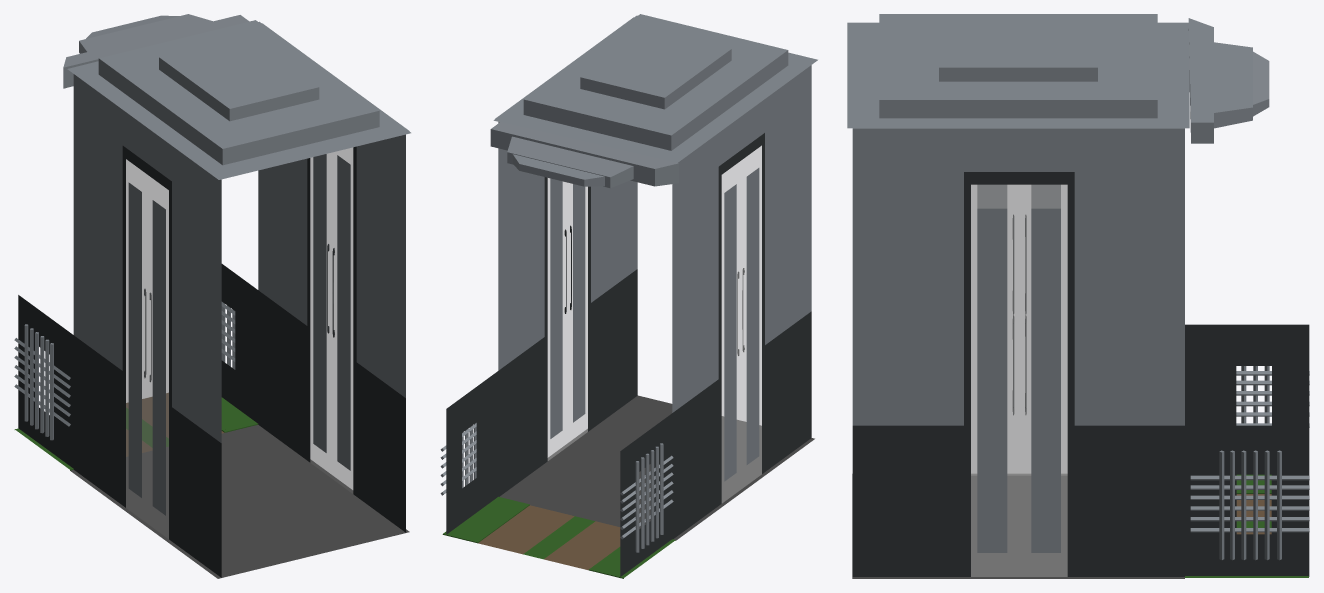
Rendered from ThirdTile.fbx.
3 renders of one model, left to right at view 1: azimuth 30°, elevation 25°; view 2: azimuth 150°, elevation 25°; view 3: azimuth 270°, elevation 25°, orthographic. The views are drawn at different scales.
Visible parts, largest first — view 1: ThirdTile; view 2: ThirdTile; view 3: ThirdTile.
Boxes of the visible parts, x1=… form: ThirdTile: x1=14, y1=14, x2=410, y2=578; ThirdTile: x1=440, y1=14, x2=817, y2=578; ThirdTile: x1=847, y1=14, x2=1309, y2=578.
Bounding box in the file's own units: 1270 × 2573 × 2232.
